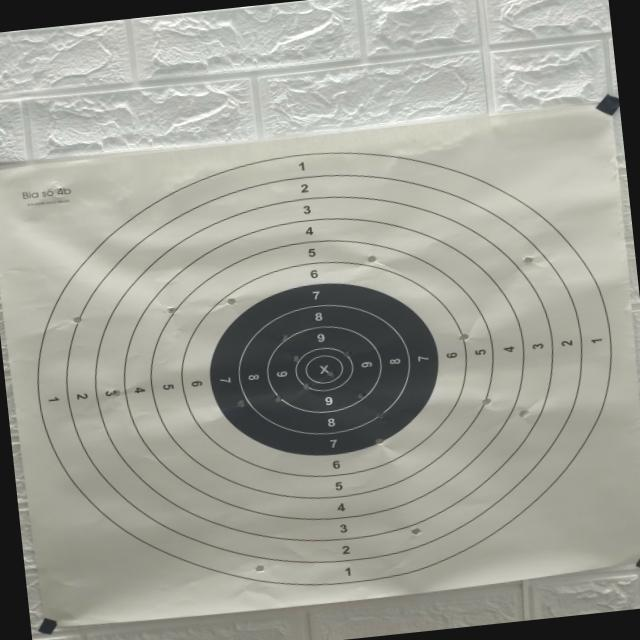bullet: (481, 397, 491, 408), (164, 306, 177, 314), (458, 333, 468, 343), (274, 393, 283, 402), (410, 527, 420, 535), (326, 370, 335, 378), (523, 256, 533, 263), (110, 389, 120, 396), (73, 316, 81, 324), (519, 410, 528, 417), (254, 565, 263, 572), (374, 438, 384, 444), (367, 255, 375, 262), (237, 399, 245, 406), (376, 411, 383, 418), (227, 298, 235, 304), (280, 334, 288, 340), (302, 383, 310, 389), (358, 392, 363, 400), (293, 355, 298, 363), (343, 351, 349, 357)
target: (0, 106, 640, 627)
